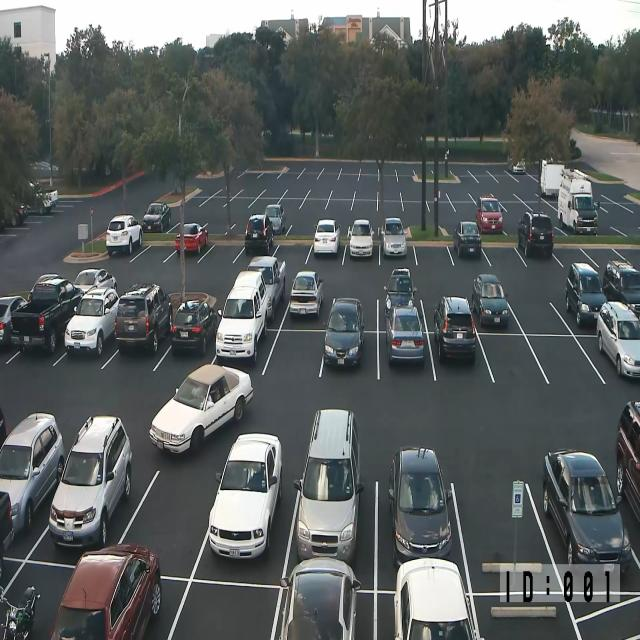car: (48, 414, 132, 548), (293, 407, 364, 564), (542, 448, 631, 572), (50, 543, 162, 639), (149, 363, 253, 455), (208, 432, 282, 560), (0, 411, 65, 540), (388, 445, 452, 566), (270, 556, 361, 639), (394, 557, 482, 639), (10, 273, 84, 354), (215, 270, 269, 363), (114, 282, 172, 353), (64, 285, 119, 356), (596, 300, 640, 378), (615, 399, 640, 523), (323, 296, 365, 368), (433, 295, 476, 363), (565, 261, 607, 327), (170, 298, 217, 355), (558, 170, 598, 235), (247, 256, 286, 322), (384, 304, 425, 364), (0, 584, 41, 640), (602, 259, 640, 317), (472, 274, 509, 327), (518, 210, 554, 258), (289, 270, 323, 318), (383, 267, 417, 315), (106, 214, 142, 256), (0, 294, 26, 346), (0, 489, 15, 576), (73, 268, 118, 296), (244, 212, 273, 254), (453, 220, 482, 258), (175, 222, 208, 255), (475, 196, 503, 234), (348, 218, 374, 258), (313, 218, 341, 255), (381, 217, 406, 256), (142, 202, 171, 232), (264, 203, 286, 235), (507, 152, 526, 174), (11, 203, 28, 226), (30, 160, 58, 172), (0, 407, 7, 452), (512, 158, 526, 174)
